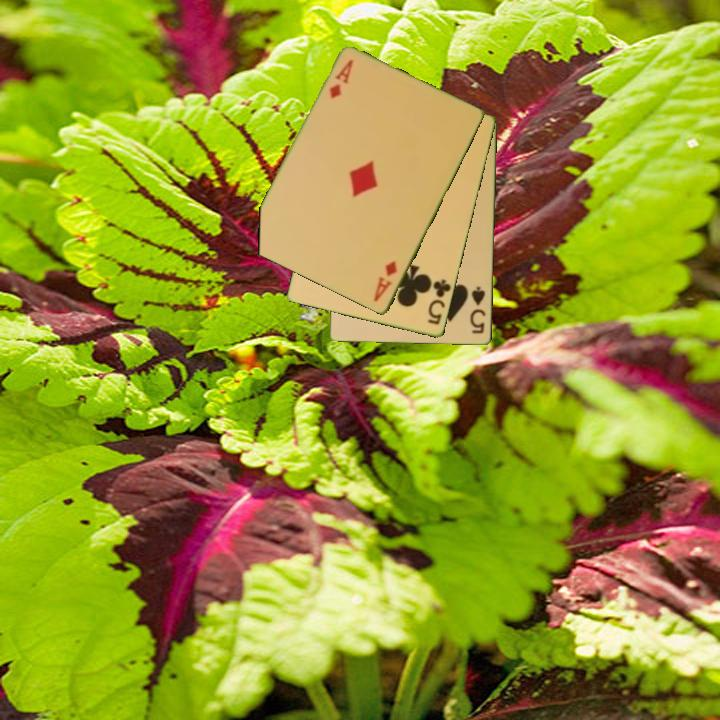5c: (425, 276, 454, 328)
5s: (467, 283, 488, 337)
Ad: (370, 257, 400, 305), (326, 56, 356, 102)
